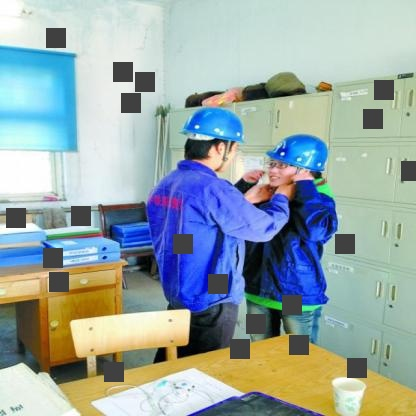blue: (261, 131, 338, 174), (178, 104, 249, 143)
